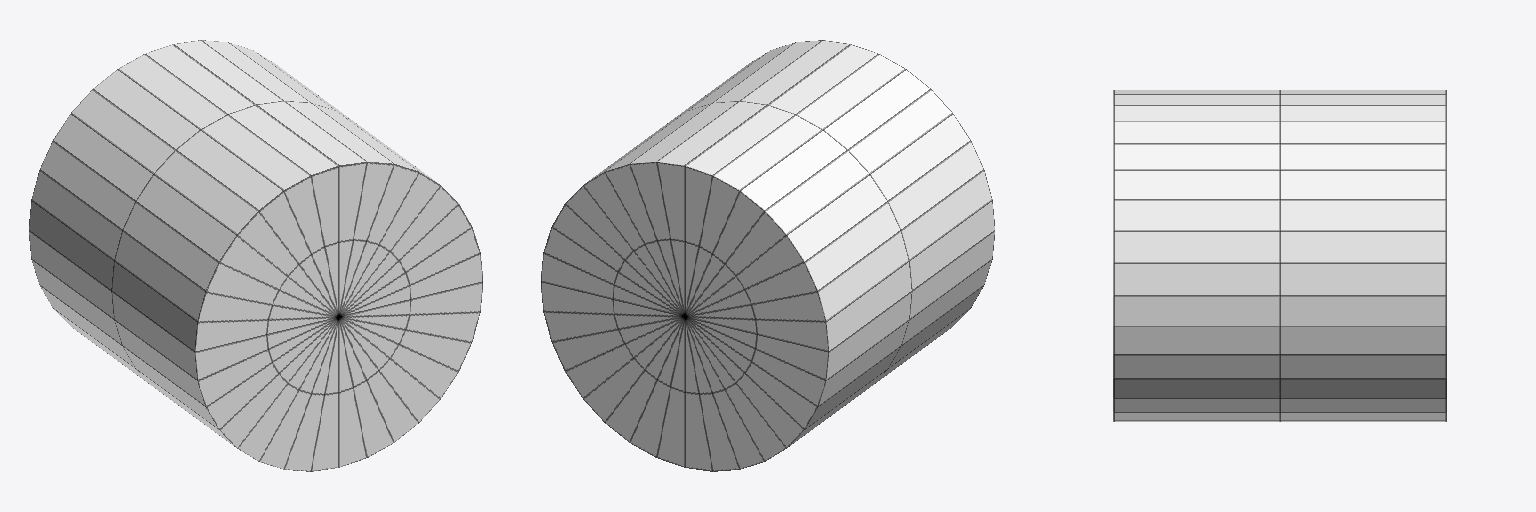
3 renders of one model, left to right at view 1: azimuth 30°, elevation 25°; view 2: azimuth 150°, elevation 25°; view 3: azimuth 270°, elevation 25°, orthographic.
Visible parts, largest first — view 1: Cylinder; view 2: Cylinder; view 3: Cylinder.
Part boxes in pixels (x1,y1,x2,y2): Cylinder: (29, 40, 482, 471); Cylinder: (541, 40, 994, 471); Cylinder: (1113, 90, 1446, 421).
Bounding box in the file's own units: 1 × 1 × 1.
1 materials, 1 textured.